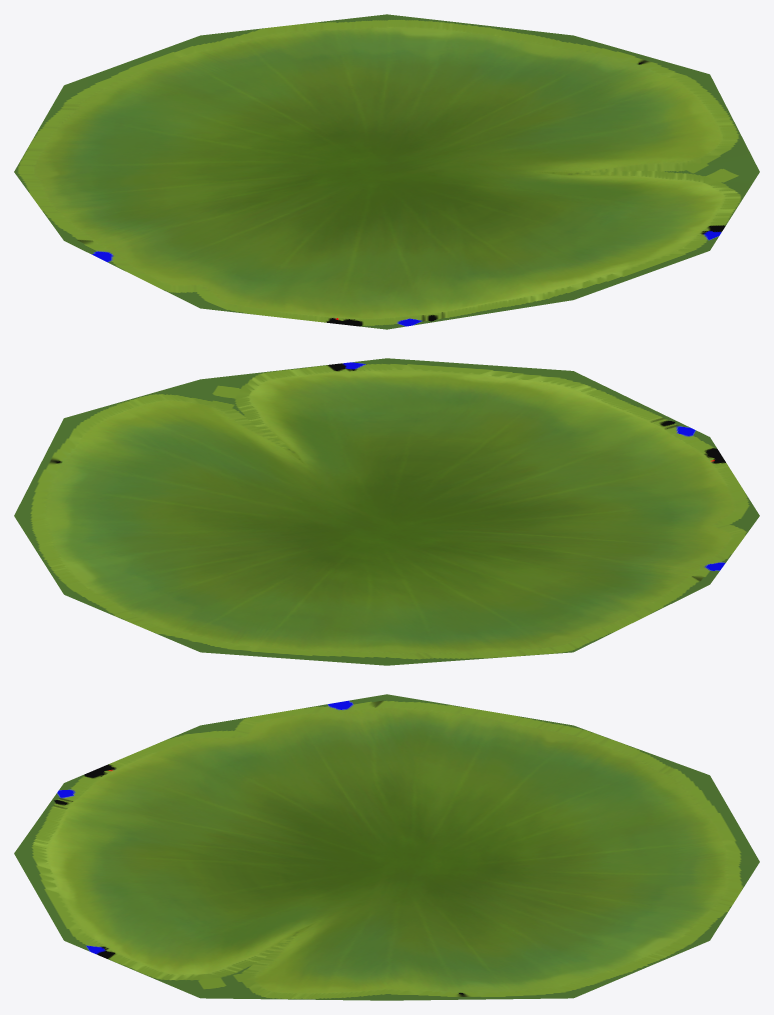
Rendered from waterPlant_01.fbx.
3 views of the same model, one above another, from view 1: azimuth 30°, elevation 25°; view 2: azimuth 150°, elevation 25°; view 3: azimuth 270°, elevation 25° (orthographic).
Visible parts, largest first — view 1: waterPlant_01; view 2: waterPlant_01; view 3: waterPlant_01.
Boxes of the visible parts, x1=… form: waterPlant_01: x1=14, y1=14, x2=759, y2=329; waterPlant_01: x1=14, y1=358, x2=759, y2=665; waterPlant_01: x1=14, y1=694, x2=759, y2=1000.
Size of the model in its own units: 68.24 by 2.57 by 68.24.
